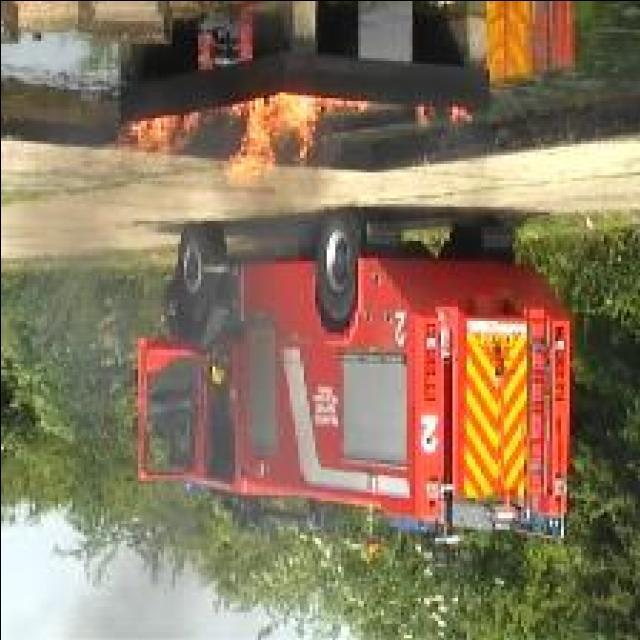Fire: (220, 91, 366, 186), (114, 110, 206, 167)
